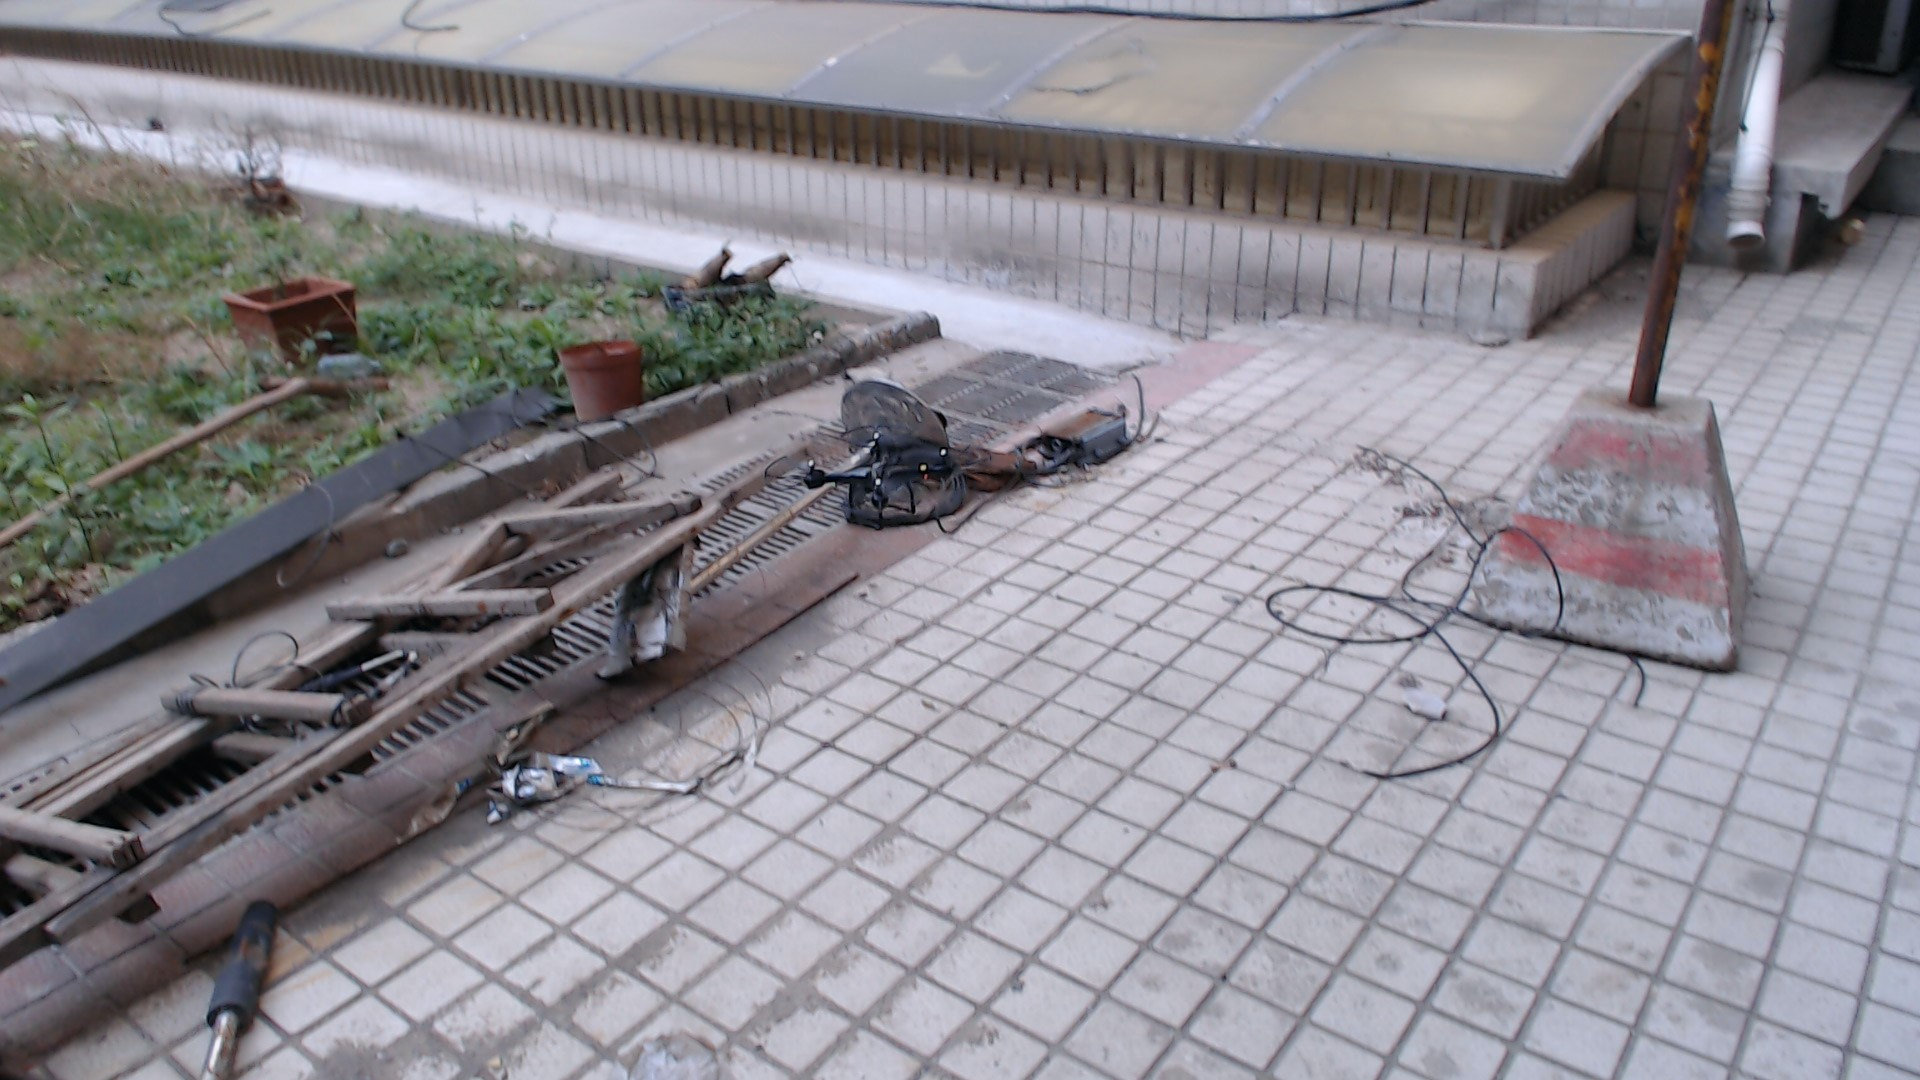drone: (745, 413, 1005, 549)
